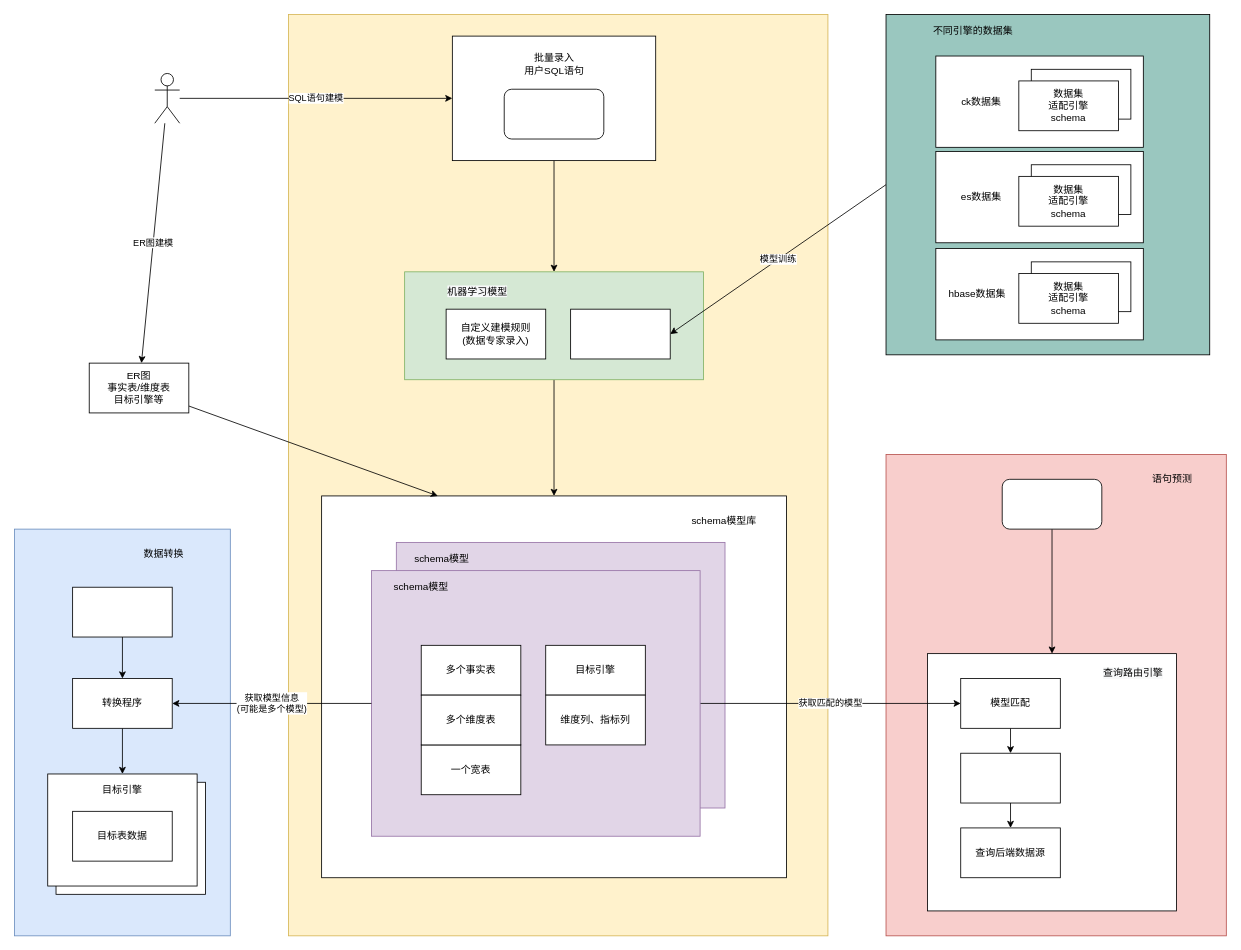
This 1241x950 diagram has some shape labels left out. Each missing label, with the centre of its shape:
"查询语句" belongs at (x=1051, y=503).
"源表数据" belongs at (x=122, y=611).
"用户" belongs at (x=167, y=98).
"确定目标引擎 确定目标表 改写语句" belongs at (x=1010, y=777).
"系统建模规则 (机器学习生成)" belongs at (x=620, y=333).
"语句集合" belongs at (x=553, y=113).
